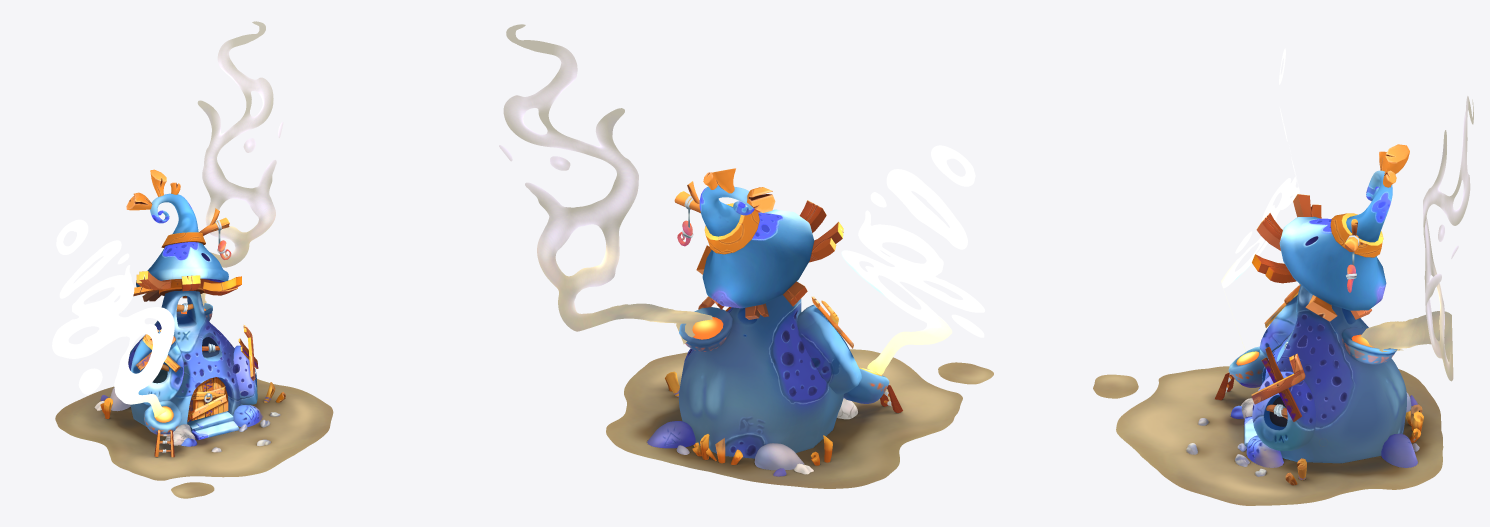
The model's file is magic_house.glb.
3 renders of one model, left to right at view 1: azimuth 30°, elevation 25°; view 2: azimuth 150°, elevation 25°; view 3: azimuth 270°, elevation 25°, orthographic. The views are drawn at different scales.
Visible parts, largest first — view 1: Plane_4, Plane.009_27, Plane.010_28, Cube_0, Cube.003_3, Cube.030_24, Cube.002_2, Plane.002_6, Cube.004_5, Cube.001_1, Cube.032_26, Cylinder.001_22 (+2 smaller); view 2: Plane_4, Cube_0, Plane.010_28, Plane.009_27, Cube.003_3, Cube.002_2, Cube.030_24, Cube.031_25, Cube.008_10, Cube.019_19, Cylinder.001_22, Cube.032_26 (+1 smaller); view 3: Plane_4, Cube_0, Cube.003_3, Plane.010_28, Cube.001_1, Cube.030_24, Plane.009_27, Plane.006_7, Cube.031_25, Cube.002_2, Cube.032_26, Cube.008_10 (+5 smaller).
Part boxes in pixels (x1,y1,x2,y2): Plane_4: (55, 379, 333, 498); Plane.009_27: (52, 219, 174, 417); Plane.010_28: (197, 21, 283, 305); Cube_0: (128, 290, 242, 426); Cube.003_3: (136, 193, 228, 286); Cube.030_24: (94, 387, 280, 452); Cube.002_2: (131, 330, 183, 405); Plane.002_6: (187, 377, 228, 422); Cube.004_5: (187, 411, 238, 439); Cube.001_1: (233, 345, 257, 404); Cube.032_26: (144, 400, 181, 434); Cylinder.001_22: (126, 169, 180, 210); Plane_4: (606, 349, 993, 488); Cube_0: (678, 280, 843, 458); Plane.010_28: (499, 24, 712, 344); Plane.009_27: (841, 145, 984, 375); Cube.003_3: (699, 185, 814, 308); Cube.002_2: (797, 304, 861, 394); Cube.030_24: (647, 397, 857, 476); Cube.031_25: (679, 307, 732, 351); Cube.008_10: (665, 332, 842, 465); Cube.019_19: (704, 203, 759, 254); Cylinder.001_22: (703, 168, 775, 212); Cube.032_26: (843, 367, 889, 403); Plane_4: (1093, 366, 1443, 505); Cube_0: (1262, 285, 1407, 463); Cube.003_3: (1279, 170, 1392, 310); Plane.010_28: (1360, 96, 1473, 381); Cube.001_1: (1252, 371, 1316, 450); Cube.030_24: (1186, 392, 1419, 476); Plane.009_27: (1221, 48, 1299, 351); Plane.006_7: (1251, 347, 1305, 421); Cube.031_25: (1341, 327, 1397, 364); Cube.002_2: (1259, 295, 1297, 358); Cube.032_26: (1228, 346, 1264, 387); Cube.008_10: (1266, 342, 1423, 485).
Size of the model in its own units: 13.32 by 11.47 by 9.61.
Materials: 3 (3 with a texture image).
